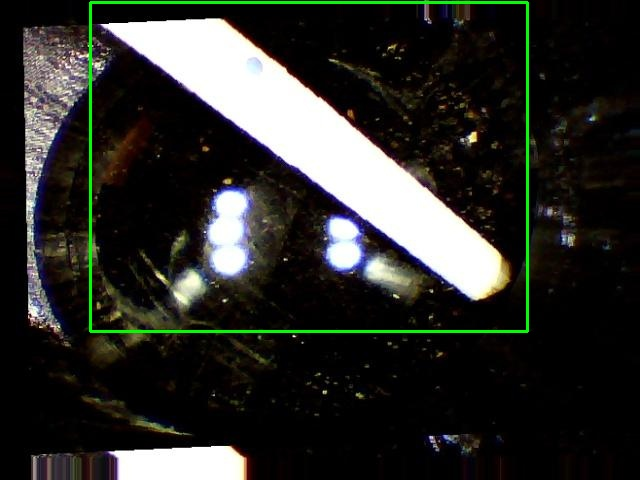megot: (90, 2, 527, 331)
